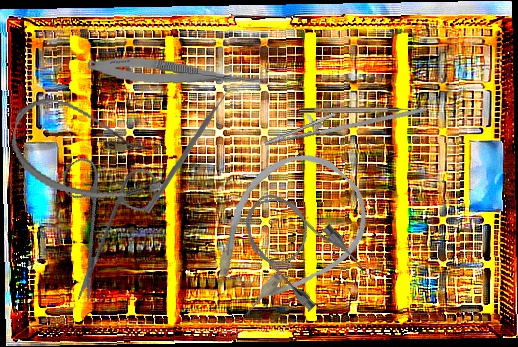Cannula: (182, 130, 388, 338), (228, 176, 370, 318), (4, 93, 176, 210)
Chopper: (144, 86, 241, 217)
Hook Surgical: (299, 107, 418, 113)
Iris Scissors: (15, 129, 191, 305)
Micro Scissor: (87, 53, 274, 92)
Needle Holder: (259, 75, 428, 166)
